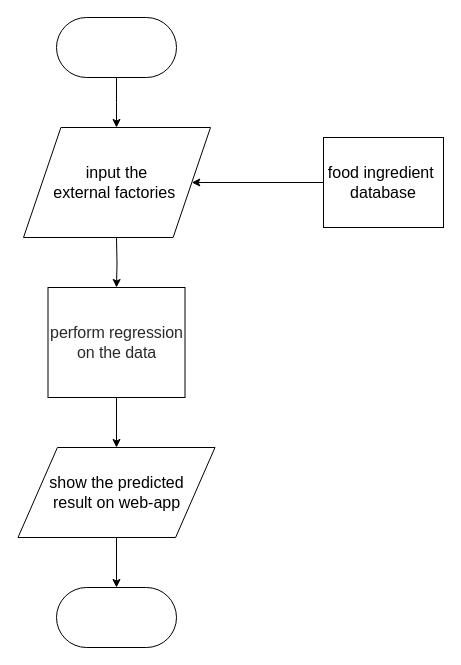
This 461x665 diagram has some shape labels left out. Each missing label, with the box of its shape:
end: (56, 586, 176, 648)
start: (56, 16, 176, 78)
